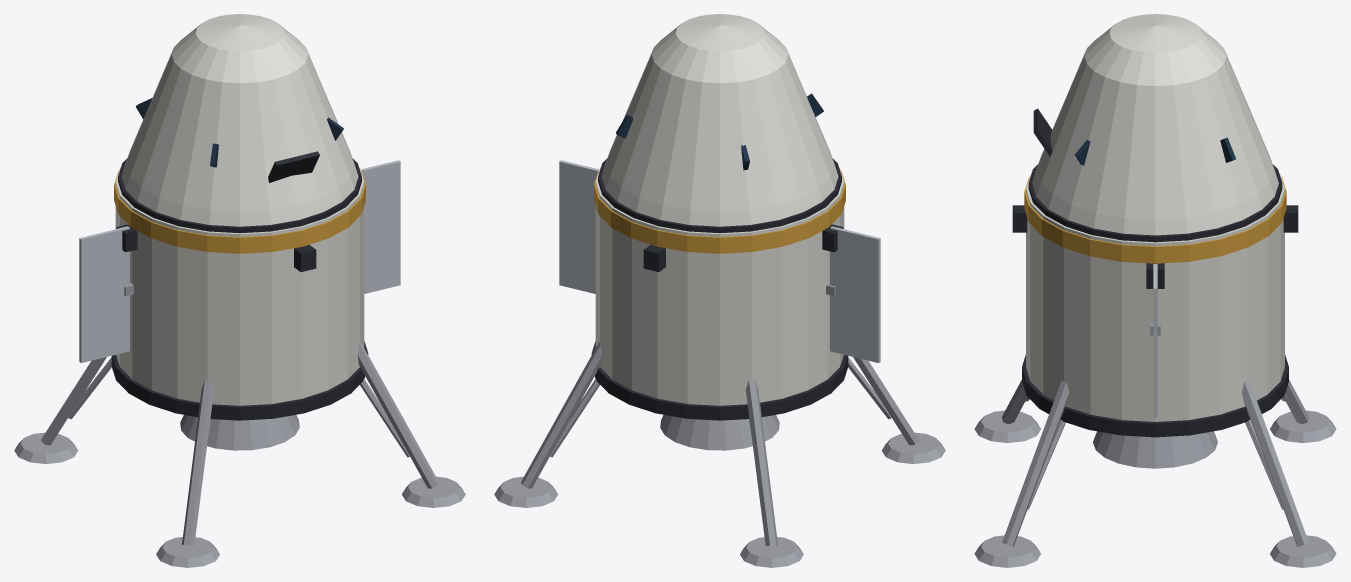
File: rescue_ship.glb
The picture shows the model from 3 angles, left to right: view 1: azimuth 30°, elevation 25°; view 2: azimuth 150°, elevation 25°; view 3: azimuth 270°, elevation 25°; orthographic projection. The views are drawn at different scales.
Parts seen in each view (by area): view 1: rescue_ship_ship_white, rescue_ship_ship_metal, rescue_ship_ship_radiator, rescue_ship_ship_dark, band; view 2: rescue_ship_ship_white, rescue_ship_ship_metal, rescue_ship_ship_radiator, rescue_ship_ship_dark, band, rescue_ship_ship_glass; view 3: rescue_ship_ship_white, rescue_ship_ship_metal, rescue_ship_ship_dark, band, rescue_ship_ship_radiator, rescue_ship_ship_glass.
Boxes of the visible parts, x1,y1,x2,y2 form: rescue_ship_ship_white: (115,14,364,405); rescue_ship_ship_metal: (14,283,465,567); rescue_ship_ship_radiator: (79,160,400,362); rescue_ship_ship_dark: (111,151,368,420); band: (114,170,365,253); rescue_ship_ship_white: (595,14,844,405); rescue_ship_ship_metal: (494,283,945,567); rescue_ship_ship_radiator: (559,160,880,362); rescue_ship_ship_dark: (591,158,848,420); band: (594,170,845,253); rescue_ship_ship_glass: (616,93,823,170); rescue_ship_ship_white: (1026,14,1284,421); rescue_ship_ship_metal: (974,322,1336,567); rescue_ship_ship_dark: (1012,108,1298,437); band: (1024,177,1286,263); rescue_ship_ship_radiator: (1153,264,1157,417); rescue_ship_ship_glass: (1074,137,1235,165).
Size of the model in its own units: 4.6 by 6.15 by 4.34.
